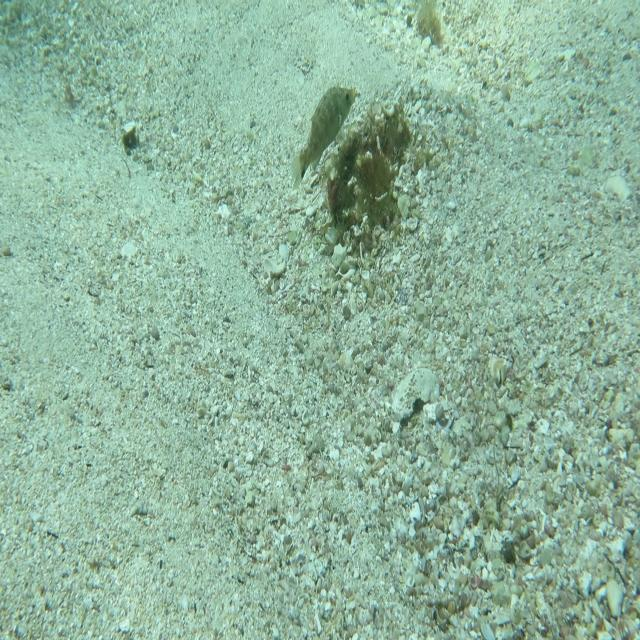AM: (290, 84, 356, 190)
core_nest: (373, 113, 404, 150)
nest: (321, 98, 419, 242)
nest_material: (354, 87, 362, 96)
vegetation: (413, 0, 448, 37), (122, 130, 140, 156)
